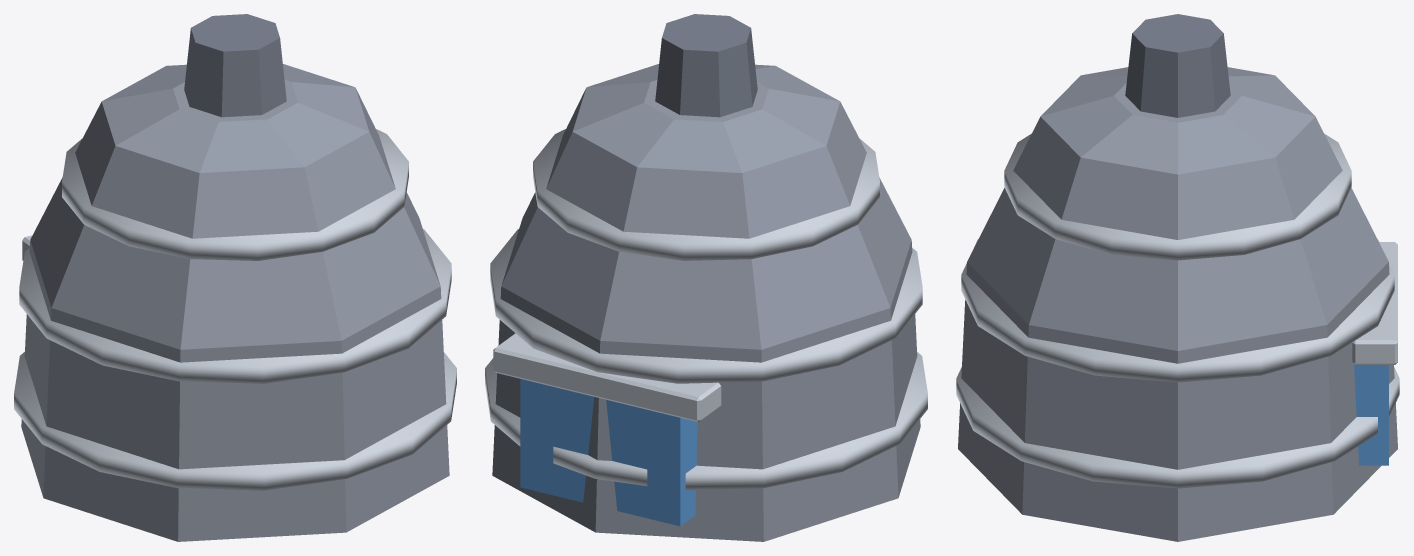
The model's file is titanium_forge_v0.glb.
3 renders of one model, left to right at view 1: azimuth 30°, elevation 25°; view 2: azimuth 150°, elevation 25°; view 3: azimuth 270°, elevation 25°, orthographic.
Parts seen in each view (by area): view 1: titanium_forge_v0; view 2: titanium_forge_v0; view 3: titanium_forge_v0.
Part boxes in pixels (bbox=[...]): titanium_forge_v0: bbox=[14, 14, 456, 541]; titanium_forge_v0: bbox=[485, 14, 927, 541]; titanium_forge_v0: bbox=[956, 14, 1399, 541].
Bounding box in the file's own units: 1.45 × 1.5 × 1.45.
